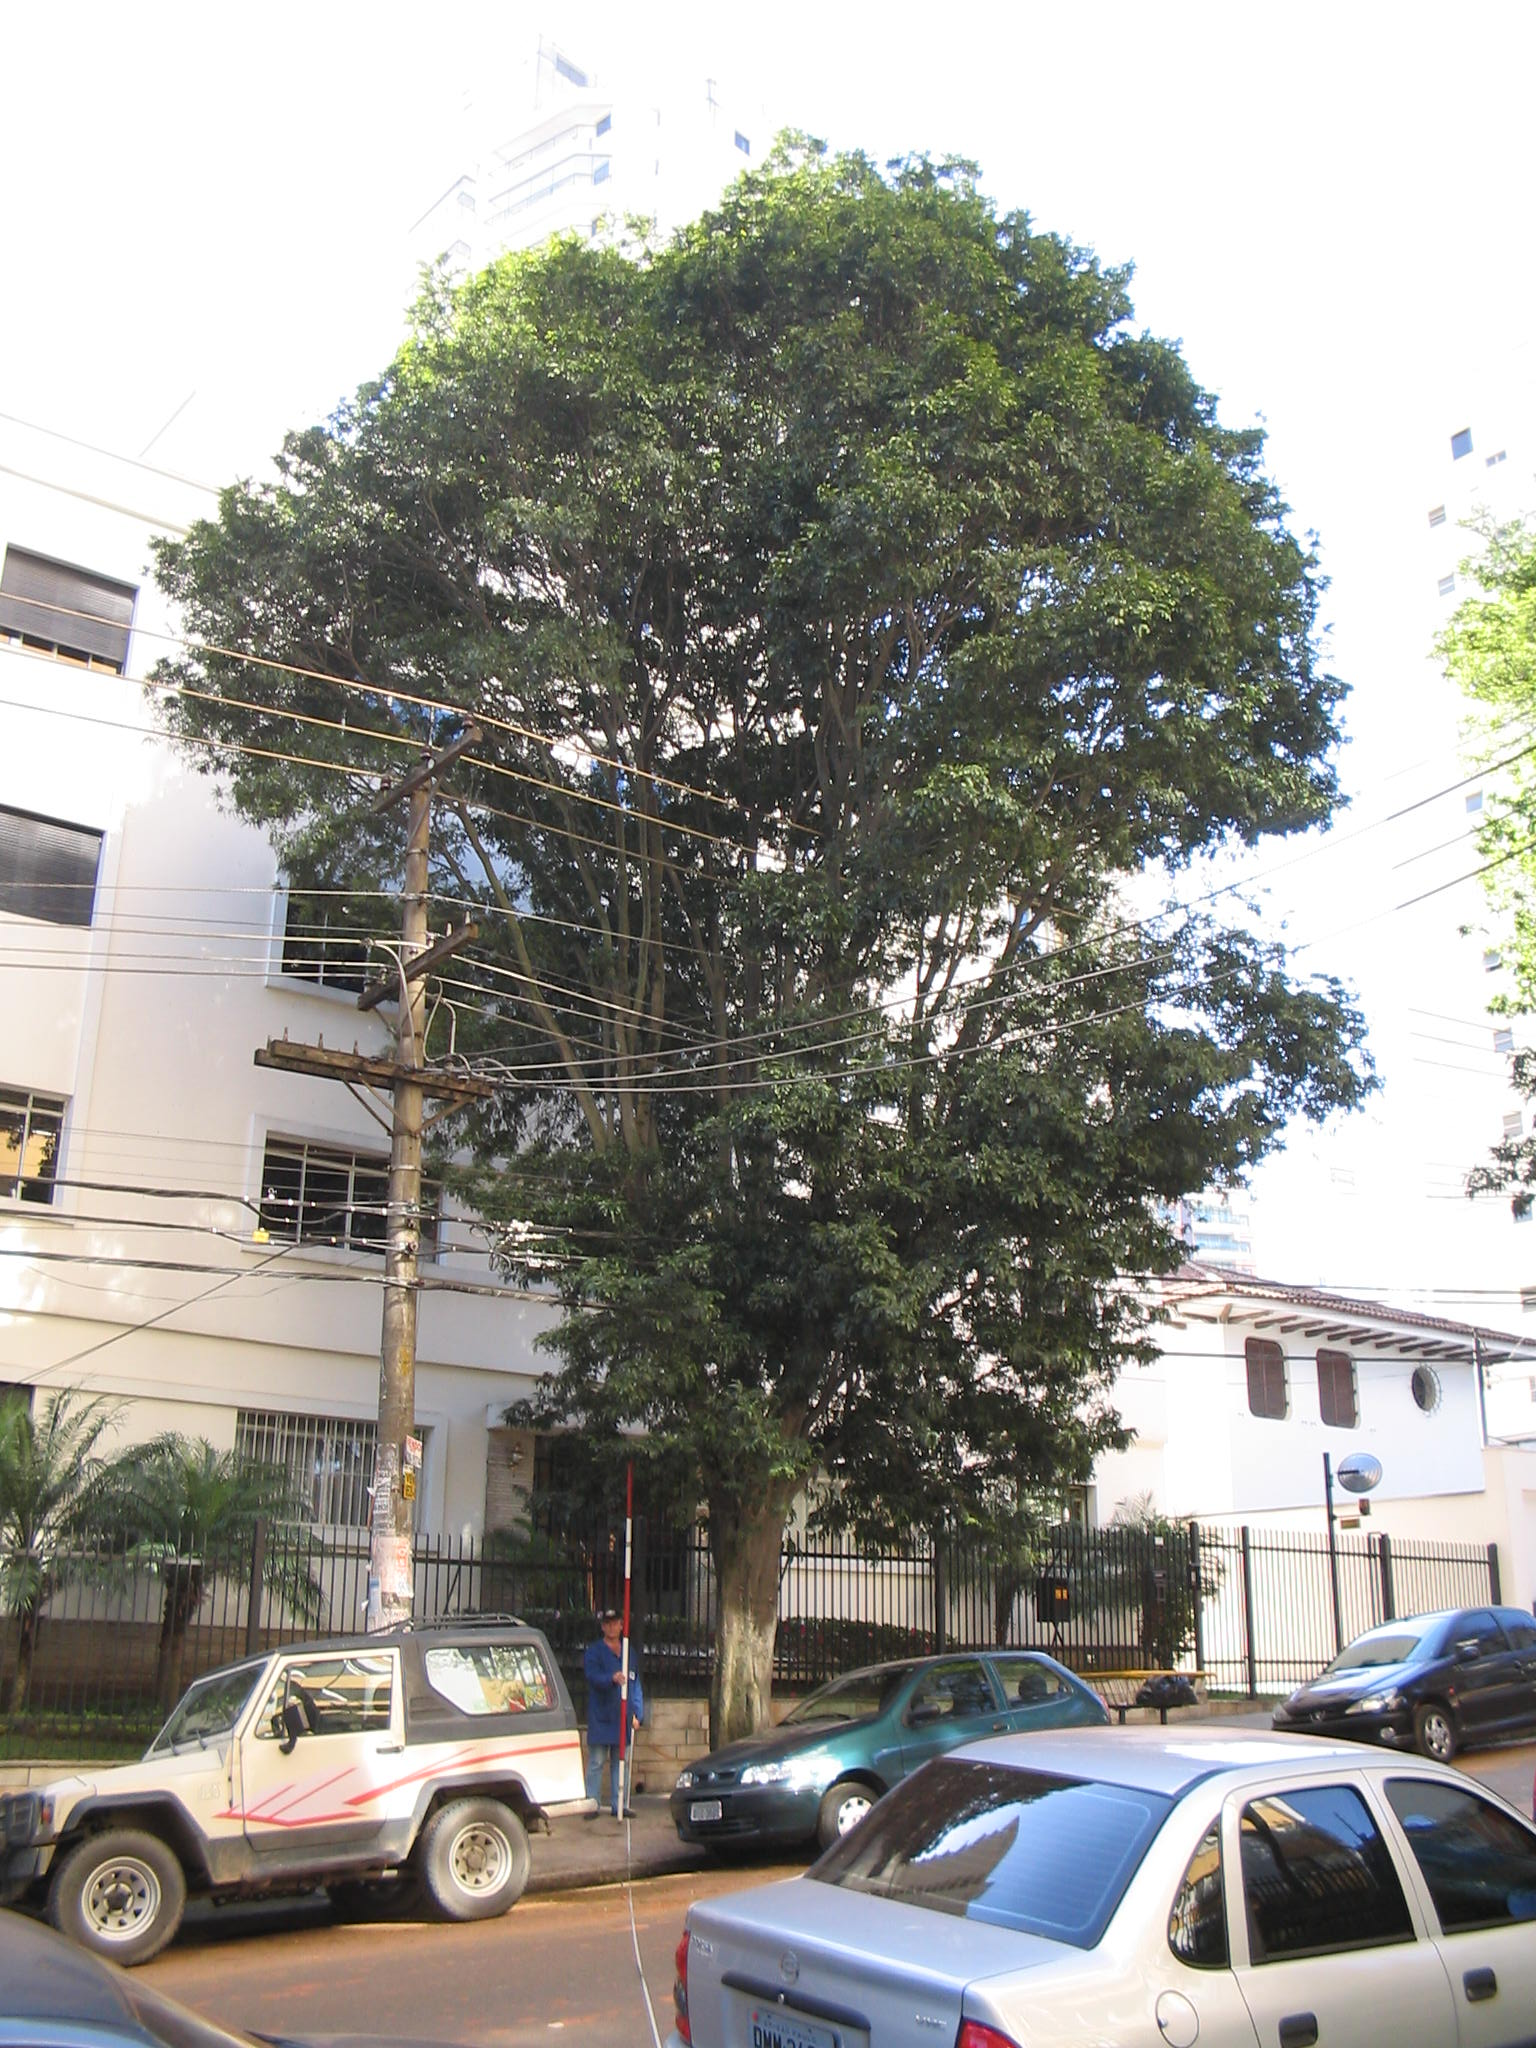crown: (153, 142, 1375, 1600)
stem: (662, 1529, 815, 1808)
stick: (591, 1466, 665, 1813)
tree: (144, 134, 1379, 1813)
